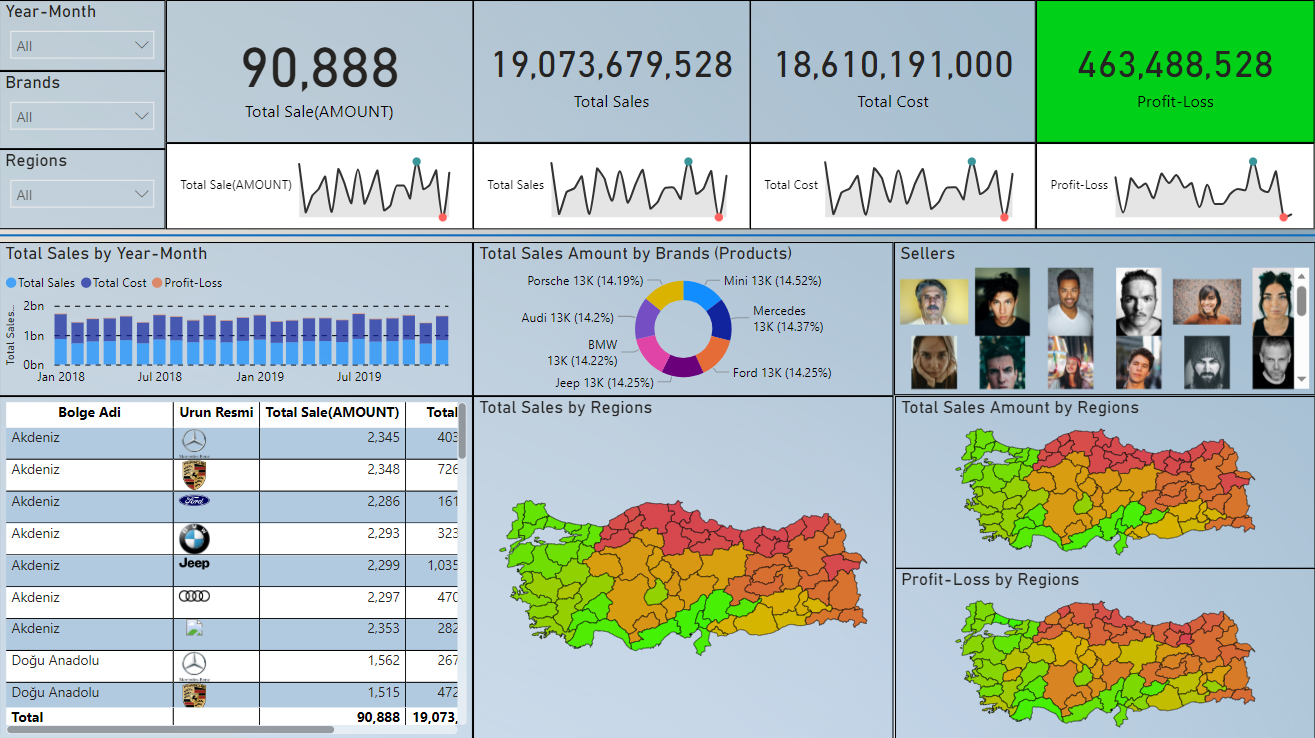

Layout of this report page (visuals, bound fields, positions):
{"tool":"powerbi","page":{"name":"Sales by Regions","canvas":[1280,720],"ordinal":0},"visuals":[{"type":"slicer","title":"Year-Month","fields":{"Values":["Satis Verileri.Yil-Ay"]},"box":[0,0,162.4,69.4],"z":0},{"type":"slicer","title":"Brands","fields":{"Values":["Urunler.Urun Adi"]},"box":[0,69.4,162.4,75.5],"z":1000},{"type":"card","fields":{"Values":["Measurements.Total Sale(AMOUNT)"]},"box":[162.4,0,298.5,138.7],"z":2000},{"type":"card","fields":{"Values":["Measurements.Total Sales"]},"box":[461,0,269.6,138.7],"z":3000},{"type":"card","fields":{"Values":["Measurements.Total Cost"]},"box":[730.5,0,278.3,138.7],"z":4000},{"type":"card","fields":{"Values":["Measurements.Profit-Loss"]},"box":[1008.9,0,271.3,138.7],"z":5000},{"type":"PBI_CV_25997FEB_F466_44FA_B562_AC4063283C4C","fields":{"axis":["Satis Verileri.Yil-Ay"],"measure":["Measurements.Total Sale(AMOUNT)"]},"box":[162.4,138.7,298.5,84.3],"z":6000},{"type":"PBI_CV_25997FEB_F466_44FA_B562_AC4063283C4C","fields":{"axis":["Satis Verileri.Yil-Ay"],"measure":["Measurements.Total Sales"]},"box":[461,138.7,269.6,84.3],"z":7000},{"type":"PBI_CV_25997FEB_F466_44FA_B562_AC4063283C4C","fields":{"axis":["Satis Verileri.Yil-Ay"],"measure":["Measurements.Total Cost"]},"box":[730.5,138.7,278.3,84.3],"z":8000},{"type":"PBI_CV_25997FEB_F466_44FA_B562_AC4063283C4C","fields":{"axis":["Satis Verileri.Yil-Ay"],"measure":["Measurements.Profit-Loss"]},"box":[1008.9,138.7,271.3,84.3],"z":9000},{"type":"columnChart","title":"Total Sales by Year-Month","fields":{"Category":["Satis Verileri.Yil-Ay"],"Y":["Measurements.Total Sales","Measurements.Total Cost","Measurements.Profit-Loss"]},"box":[0,235.3,461,150.1],"z":10000},{"type":"shape","box":[0,223,1280.2,12.3],"z":11000},{"type":"donutChart","title":"Total Sales Amount by Brands (Products)","fields":{"Y":["Measurements.Total Sale(AMOUNT)"],"Category":["Satis Verileri.Urun Adi"]},"box":[461,235.3,409.2,150.1],"z":12000},{"type":"tableEx","fields":{"Values":["Bolgeler.Bolge Adi","Urunler.Urun Resmi","Measurements.Total Sale(AMOUNT)","Measurements.Total Sales","Measurements.Total Cost"]},"box":[0,385.5,461,334.5],"z":13000},{"type":"shapeMap","title":"Total Sales by Regions","fields":{"Category":["Satis Verileri.Satis Merkezi"],"Value":["Measurements.Total Sales"]},"box":[461,385,409,335],"z":14000},{"type":"slicer","title":"Regions","fields":{"Values":["Bolgeler.Bolge Adi"]},"box":[0,144.9,162.4,78.1],"z":15000},{"type":"ImageGrid_FC5183B9_926C_45E0_B5F7_0CE9EAF1DA9B","title":"Sellers","fields":{"ImageURLHQ":["Saticilar.Fotograf Linki"]},"box":[870.1,235.3,410,149.3],"z":16000},{"type":"shapeMap","title":"Total Sales Amount by Regions","fields":{"Category":["Satis Verileri.Satis Merkezi"],"Value":["Measurements.Total Sale(AMOUNT)"]},"box":[871,385.5,409.2,167.7],"z":17000},{"type":"shapeMap","title":"Profit-Loss by Regions","fields":{"Category":["Satis Verileri.Satis Merkezi"],"Value":["Measurements.Profit-Loss"]},"box":[871,552.3,409.2,167.7],"z":18000}]}

Visuals, with their boxes in screenshot pixels (x1, y1, x2, y2), scaled from the page's 1280x720 canvas onto the 1315x738 screenshot:
"Year-Month" slicer: (0,0,167,71)
"Brands" slicer: (0,71,167,149)
card - Measurements.Total Sale(AMOUNT): (167,0,474,142)
card - Measurements.Total Sales: (474,0,751,142)
card - Measurements.Total Cost: (750,0,1036,142)
card - Measurements.Profit-Loss: (1036,0,1314,142)
PBI_CV_25997FEB_F466_44FA_B562_AC4063283C4C - Satis Verileri.Yil-Ay x Measurements.Total Sale(AMOUNT): (167,142,474,229)
PBI_CV_25997FEB_F466_44FA_B562_AC4063283C4C - Satis Verileri.Yil-Ay x Measurements.Total Sales: (474,142,751,229)
PBI_CV_25997FEB_F466_44FA_B562_AC4063283C4C - Satis Verileri.Yil-Ay x Measurements.Total Cost: (750,142,1036,229)
PBI_CV_25997FEB_F466_44FA_B562_AC4063283C4C - Satis Verileri.Yil-Ay x Measurements.Profit-Loss: (1036,142,1314,229)
"Total Sales by Year-Month" columnChart: (0,241,474,395)
shape: (0,229,1314,241)
"Total Sales Amount by Brands (Products)" donutChart: (474,241,894,395)
tableEx - Bolgeler.Bolge Adi x Urunler.Urun Resmi: (0,395,474,737)
"Total Sales by Regions" shapeMap: (474,395,894,737)
"Regions" slicer: (0,149,167,229)
"Sellers" ImageGrid_FC5183B9_926C_45E0_B5F7_0CE9EAF1DA9B: (894,241,1314,394)
"Total Sales Amount by Regions" shapeMap: (895,395,1314,567)
"Profit-Loss by Regions" shapeMap: (895,566,1314,737)
